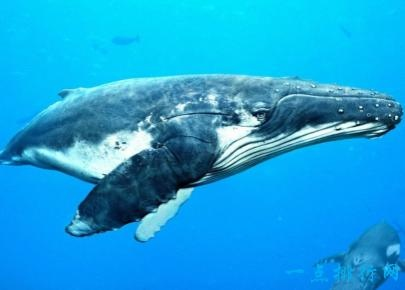fish: (4, 72, 396, 240)
